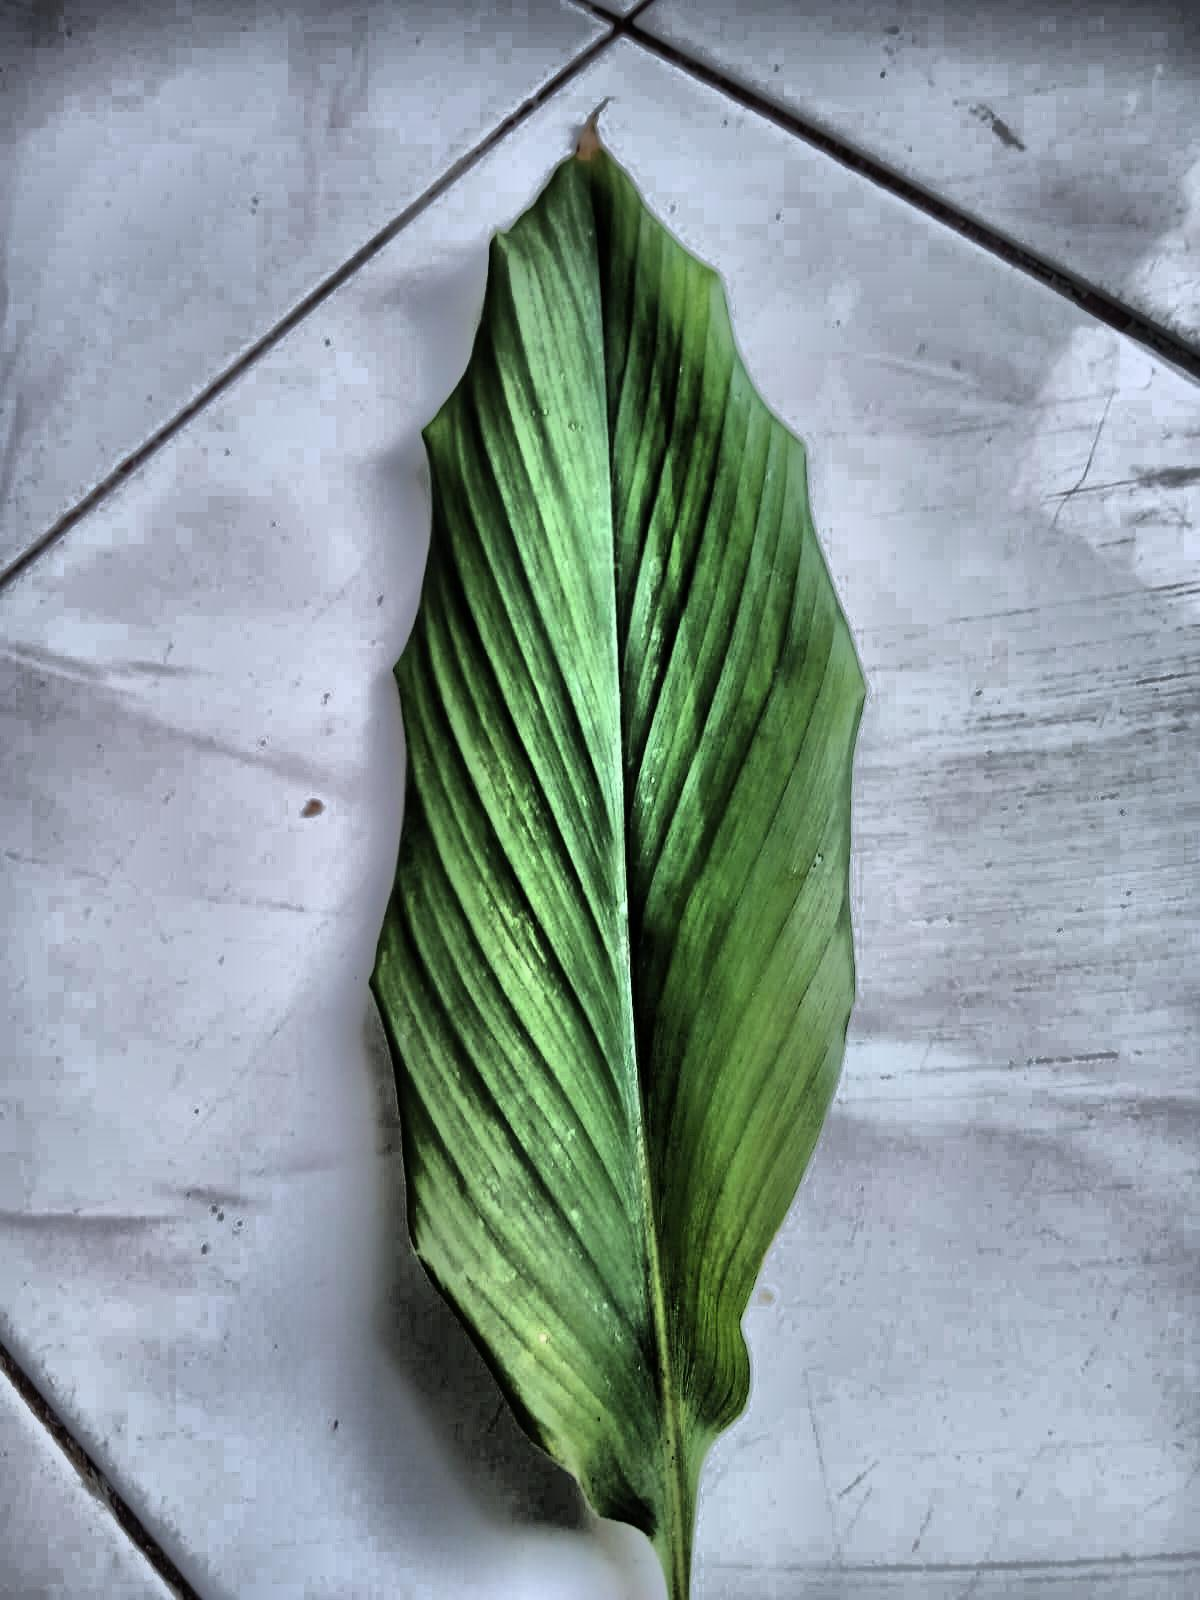daun kunyit: (371, 146, 863, 1599)
